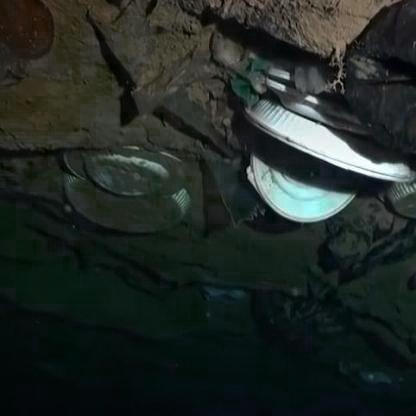plastic: (237, 81, 416, 253), (54, 132, 171, 212)
